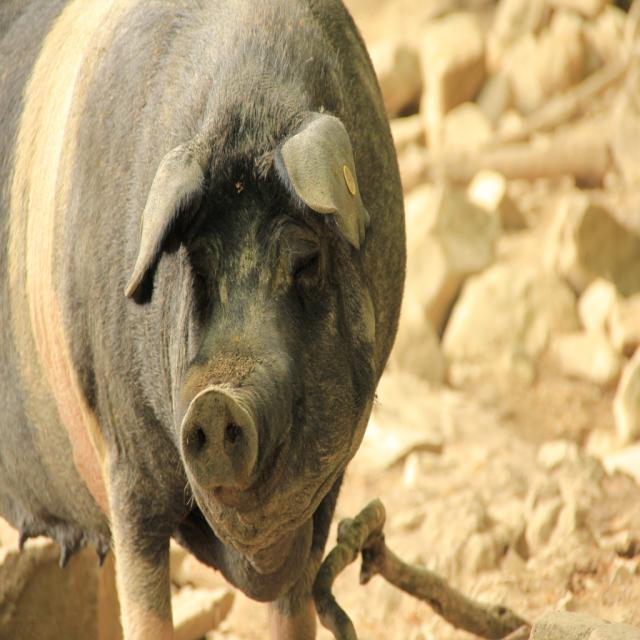Pig: (0, 0, 407, 639)
